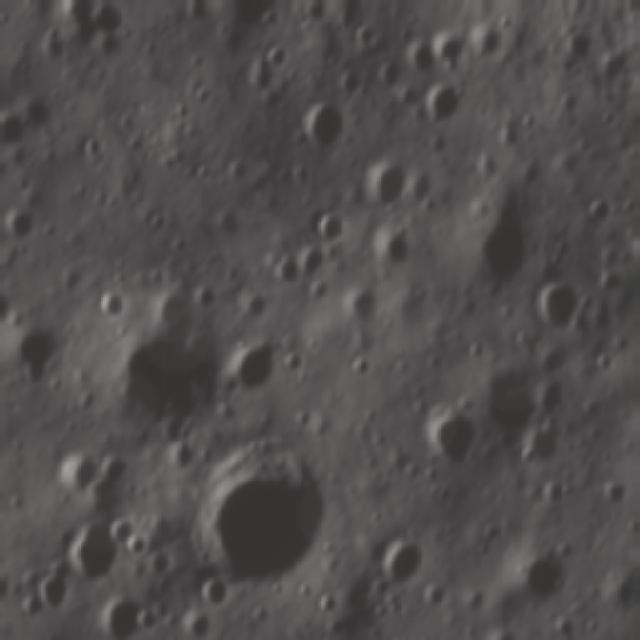crater: (98, 285, 236, 447), (186, 434, 332, 581), (464, 210, 542, 288), (476, 363, 544, 431), (506, 544, 577, 607), (296, 93, 358, 155), (422, 402, 480, 468), (530, 272, 584, 338), (64, 520, 121, 582), (4, 323, 62, 383), (227, 337, 284, 395), (377, 528, 431, 584), (105, 592, 160, 640), (360, 156, 411, 207), (54, 444, 103, 494), (426, 82, 468, 128), (522, 423, 564, 466), (370, 230, 415, 270), (464, 19, 504, 64), (100, 444, 138, 487), (4, 202, 42, 242), (434, 21, 468, 65), (344, 285, 382, 324), (407, 166, 444, 206), (408, 31, 442, 74), (168, 434, 201, 477), (37, 568, 74, 604), (93, 286, 130, 322), (312, 208, 350, 242), (93, 26, 127, 63), (566, 23, 600, 60), (538, 476, 574, 510), (272, 250, 306, 285), (195, 578, 234, 608), (346, 349, 380, 382), (342, 64, 375, 98), (0, 110, 32, 144), (192, 279, 226, 310), (21, 584, 50, 619), (247, 285, 276, 320), (592, 190, 619, 227), (213, 204, 242, 238), (602, 473, 630, 507), (107, 513, 135, 545), (353, 20, 384, 48), (228, 150, 254, 182), (378, 59, 408, 86), (598, 266, 624, 296), (284, 346, 311, 374), (557, 88, 585, 114), (292, 401, 317, 428), (302, 245, 327, 272), (308, 275, 335, 300), (187, 610, 216, 633), (15, 168, 40, 194), (136, 607, 162, 631), (82, 132, 106, 158), (320, 587, 342, 615), (128, 529, 149, 556), (45, 22, 69, 44), (268, 44, 289, 68)
